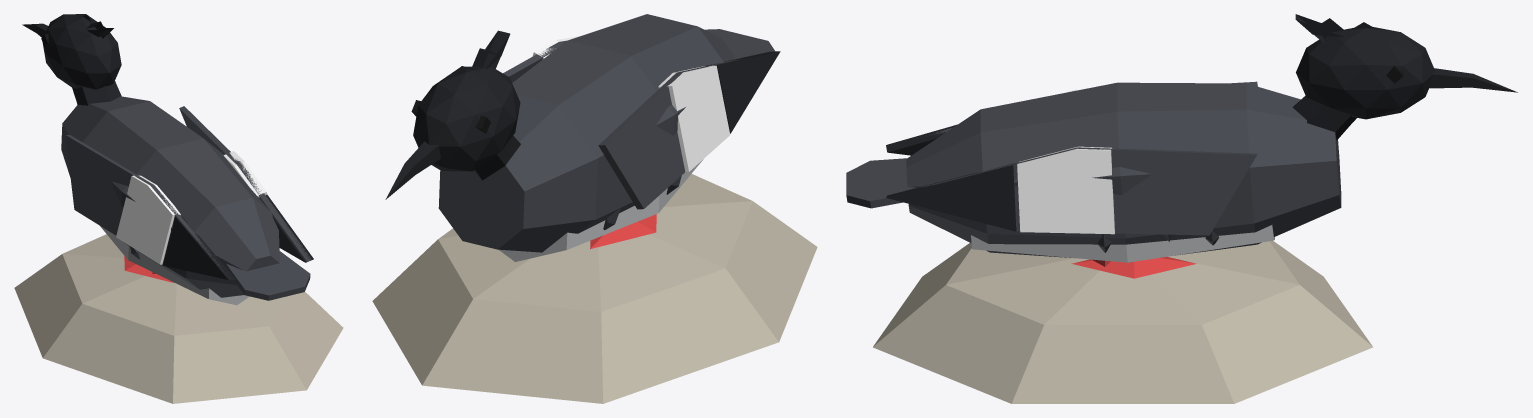
The model's file is pato_mergulhao.glb.
The picture shows the model from 3 angles, left to right: view 1: azimuth 30°, elevation 25°; view 2: azimuth 150°, elevation 25°; view 3: azimuth 270°, elevation 25°; orthographic projection. The views are drawn at different scales.
Parts seen in each view (by area): view 1: corpo; view 2: corpo; view 3: corpo.
Part boxes in pixels (<box>): corpo: <box>14,14,343,403</box>; corpo: <box>372,14,817,403</box>; corpo: <box>846,14,1517,403</box>.
Size of the model in its own units: 0.5586 by 0.5119 by 1.
